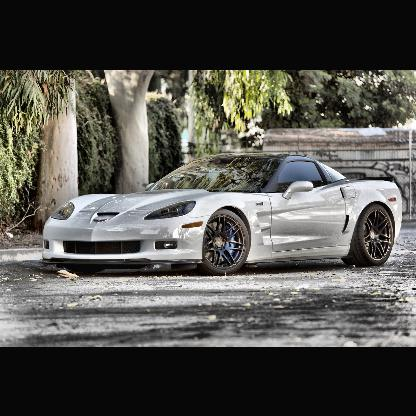Chevrolet Corvette ZR1 2012: (42, 148, 406, 276)
